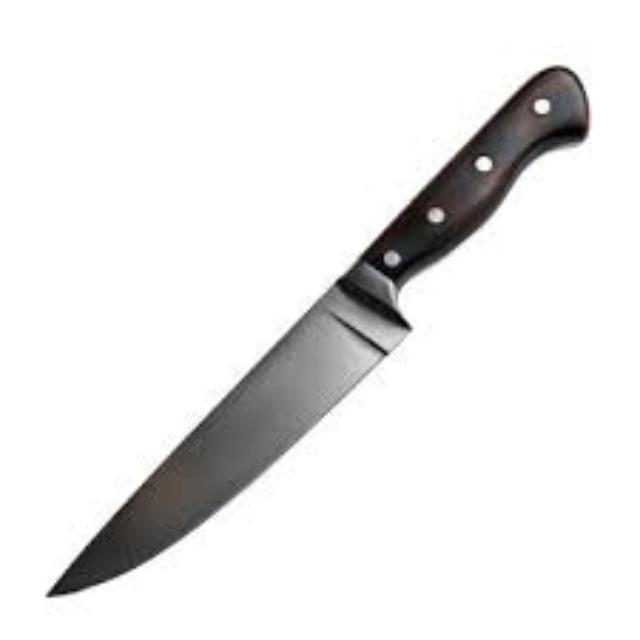Knife: (43, 63, 589, 597)
